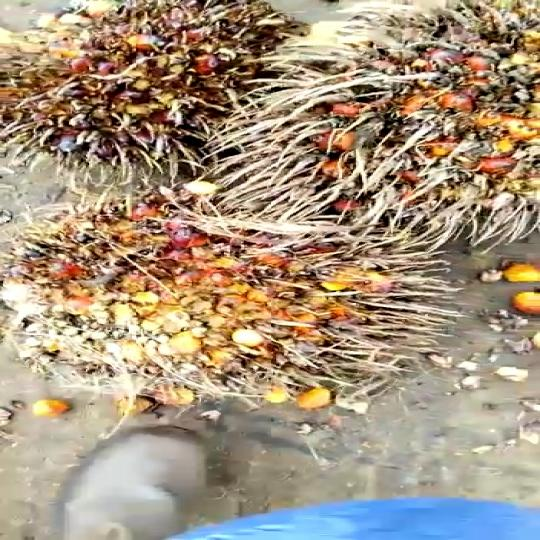terlalu masak: (0, 188, 456, 407), (0, 0, 282, 188)
